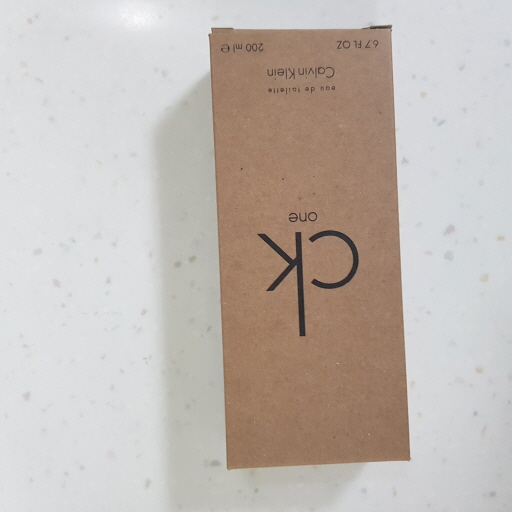Paper_0: (204, 20, 426, 480)
